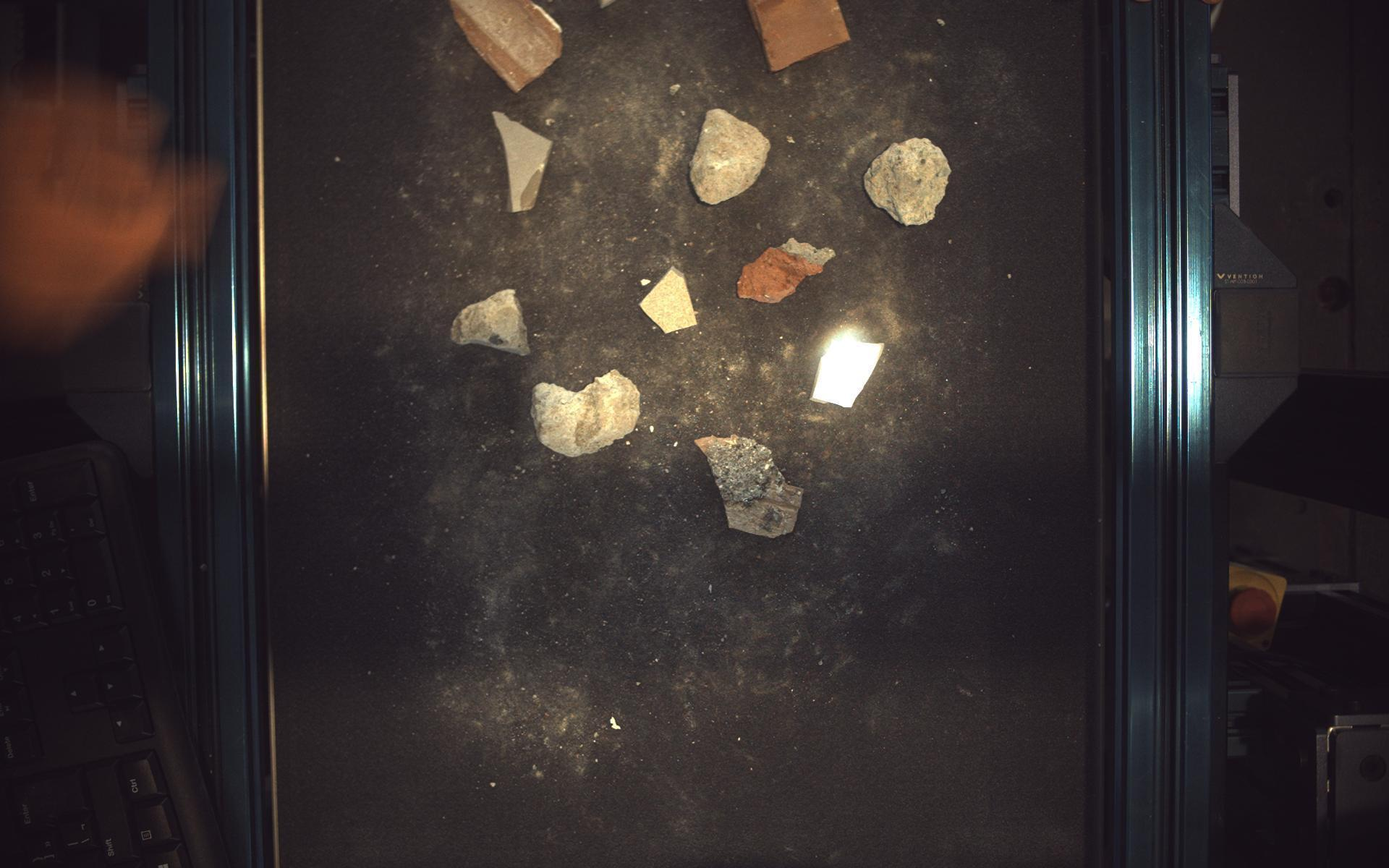brick: (696, 435, 804, 539), (451, 1, 563, 90), (749, 1, 851, 70), (739, 238, 836, 303)
concrete: (532, 370, 641, 457), (691, 108, 771, 204), (865, 137, 953, 224), (451, 289, 530, 355)
tile: (493, 110, 553, 211), (812, 337, 885, 407), (641, 268, 698, 333)
